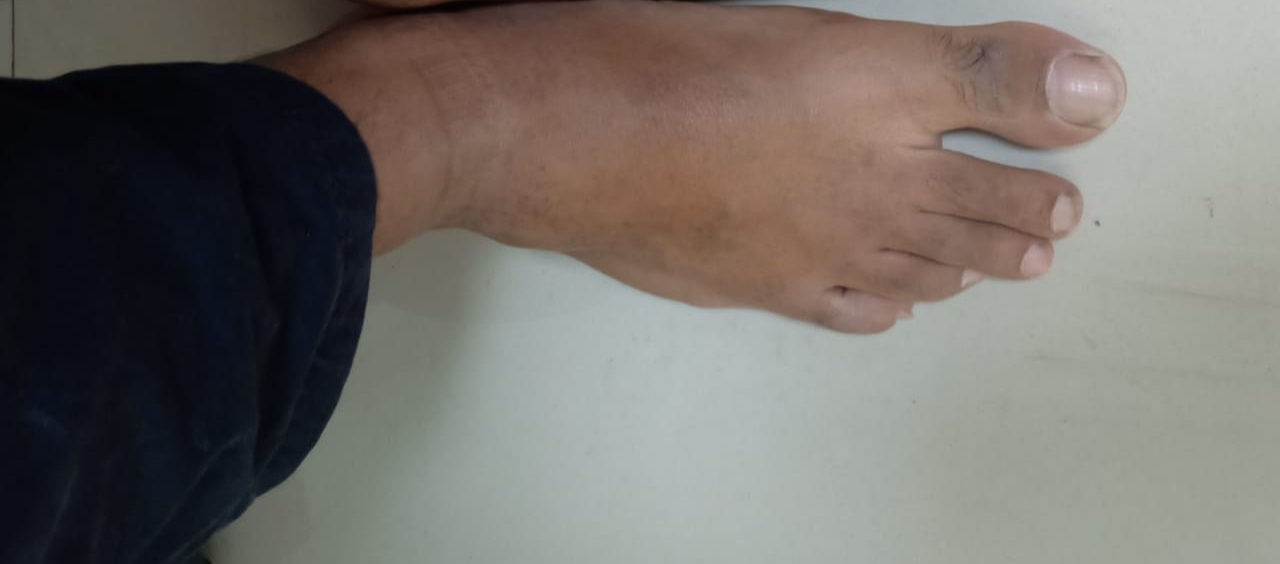feet: (262, 6, 1129, 344)
